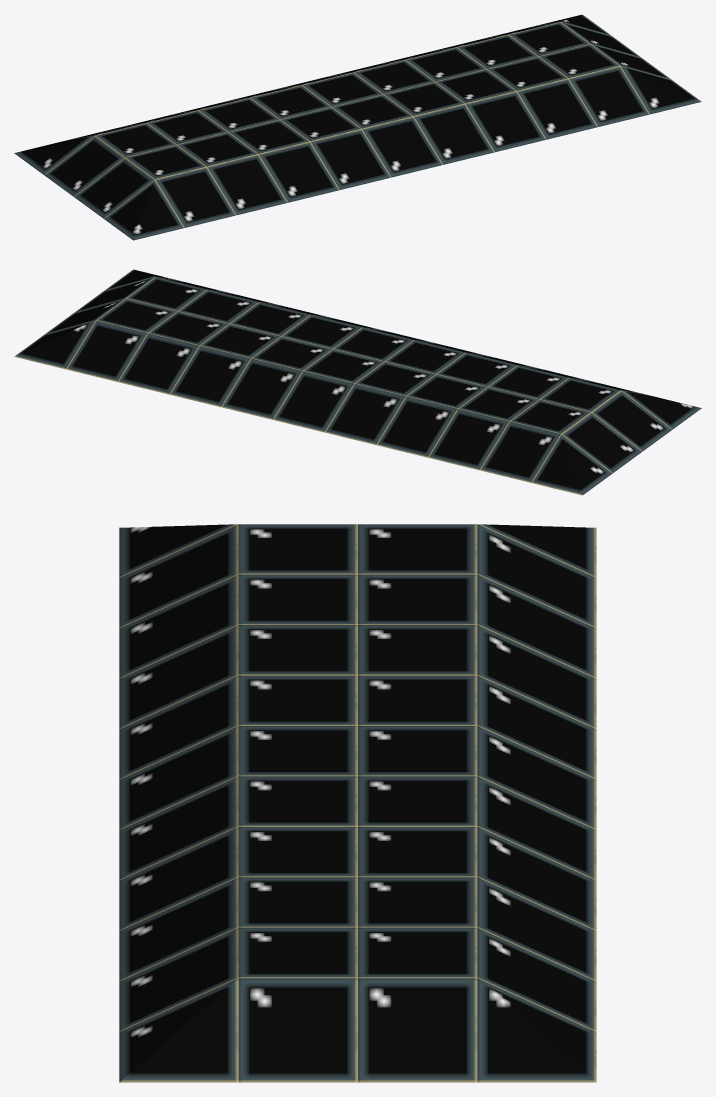
The model's file is Roof.obj.
3 renders of one model, top to bottom at view 1: azimuth 30°, elevation 25°; view 2: azimuth 150°, elevation 25°; view 3: azimuth 270°, elevation 25°, orthographic. The views are drawn at different scales.
Parts seen in each view (by area): view 1: Default; view 2: Default; view 3: Default.
Part boxes in pixels (box(x1,y1,x2,y2)): Default: box(14, 14, 701, 240); Default: box(14, 269, 701, 495); Default: box(119, 524, 596, 1082).
Size of the model in its own units: 11 by 0.5 by 4.
1 material, 1 textured.
